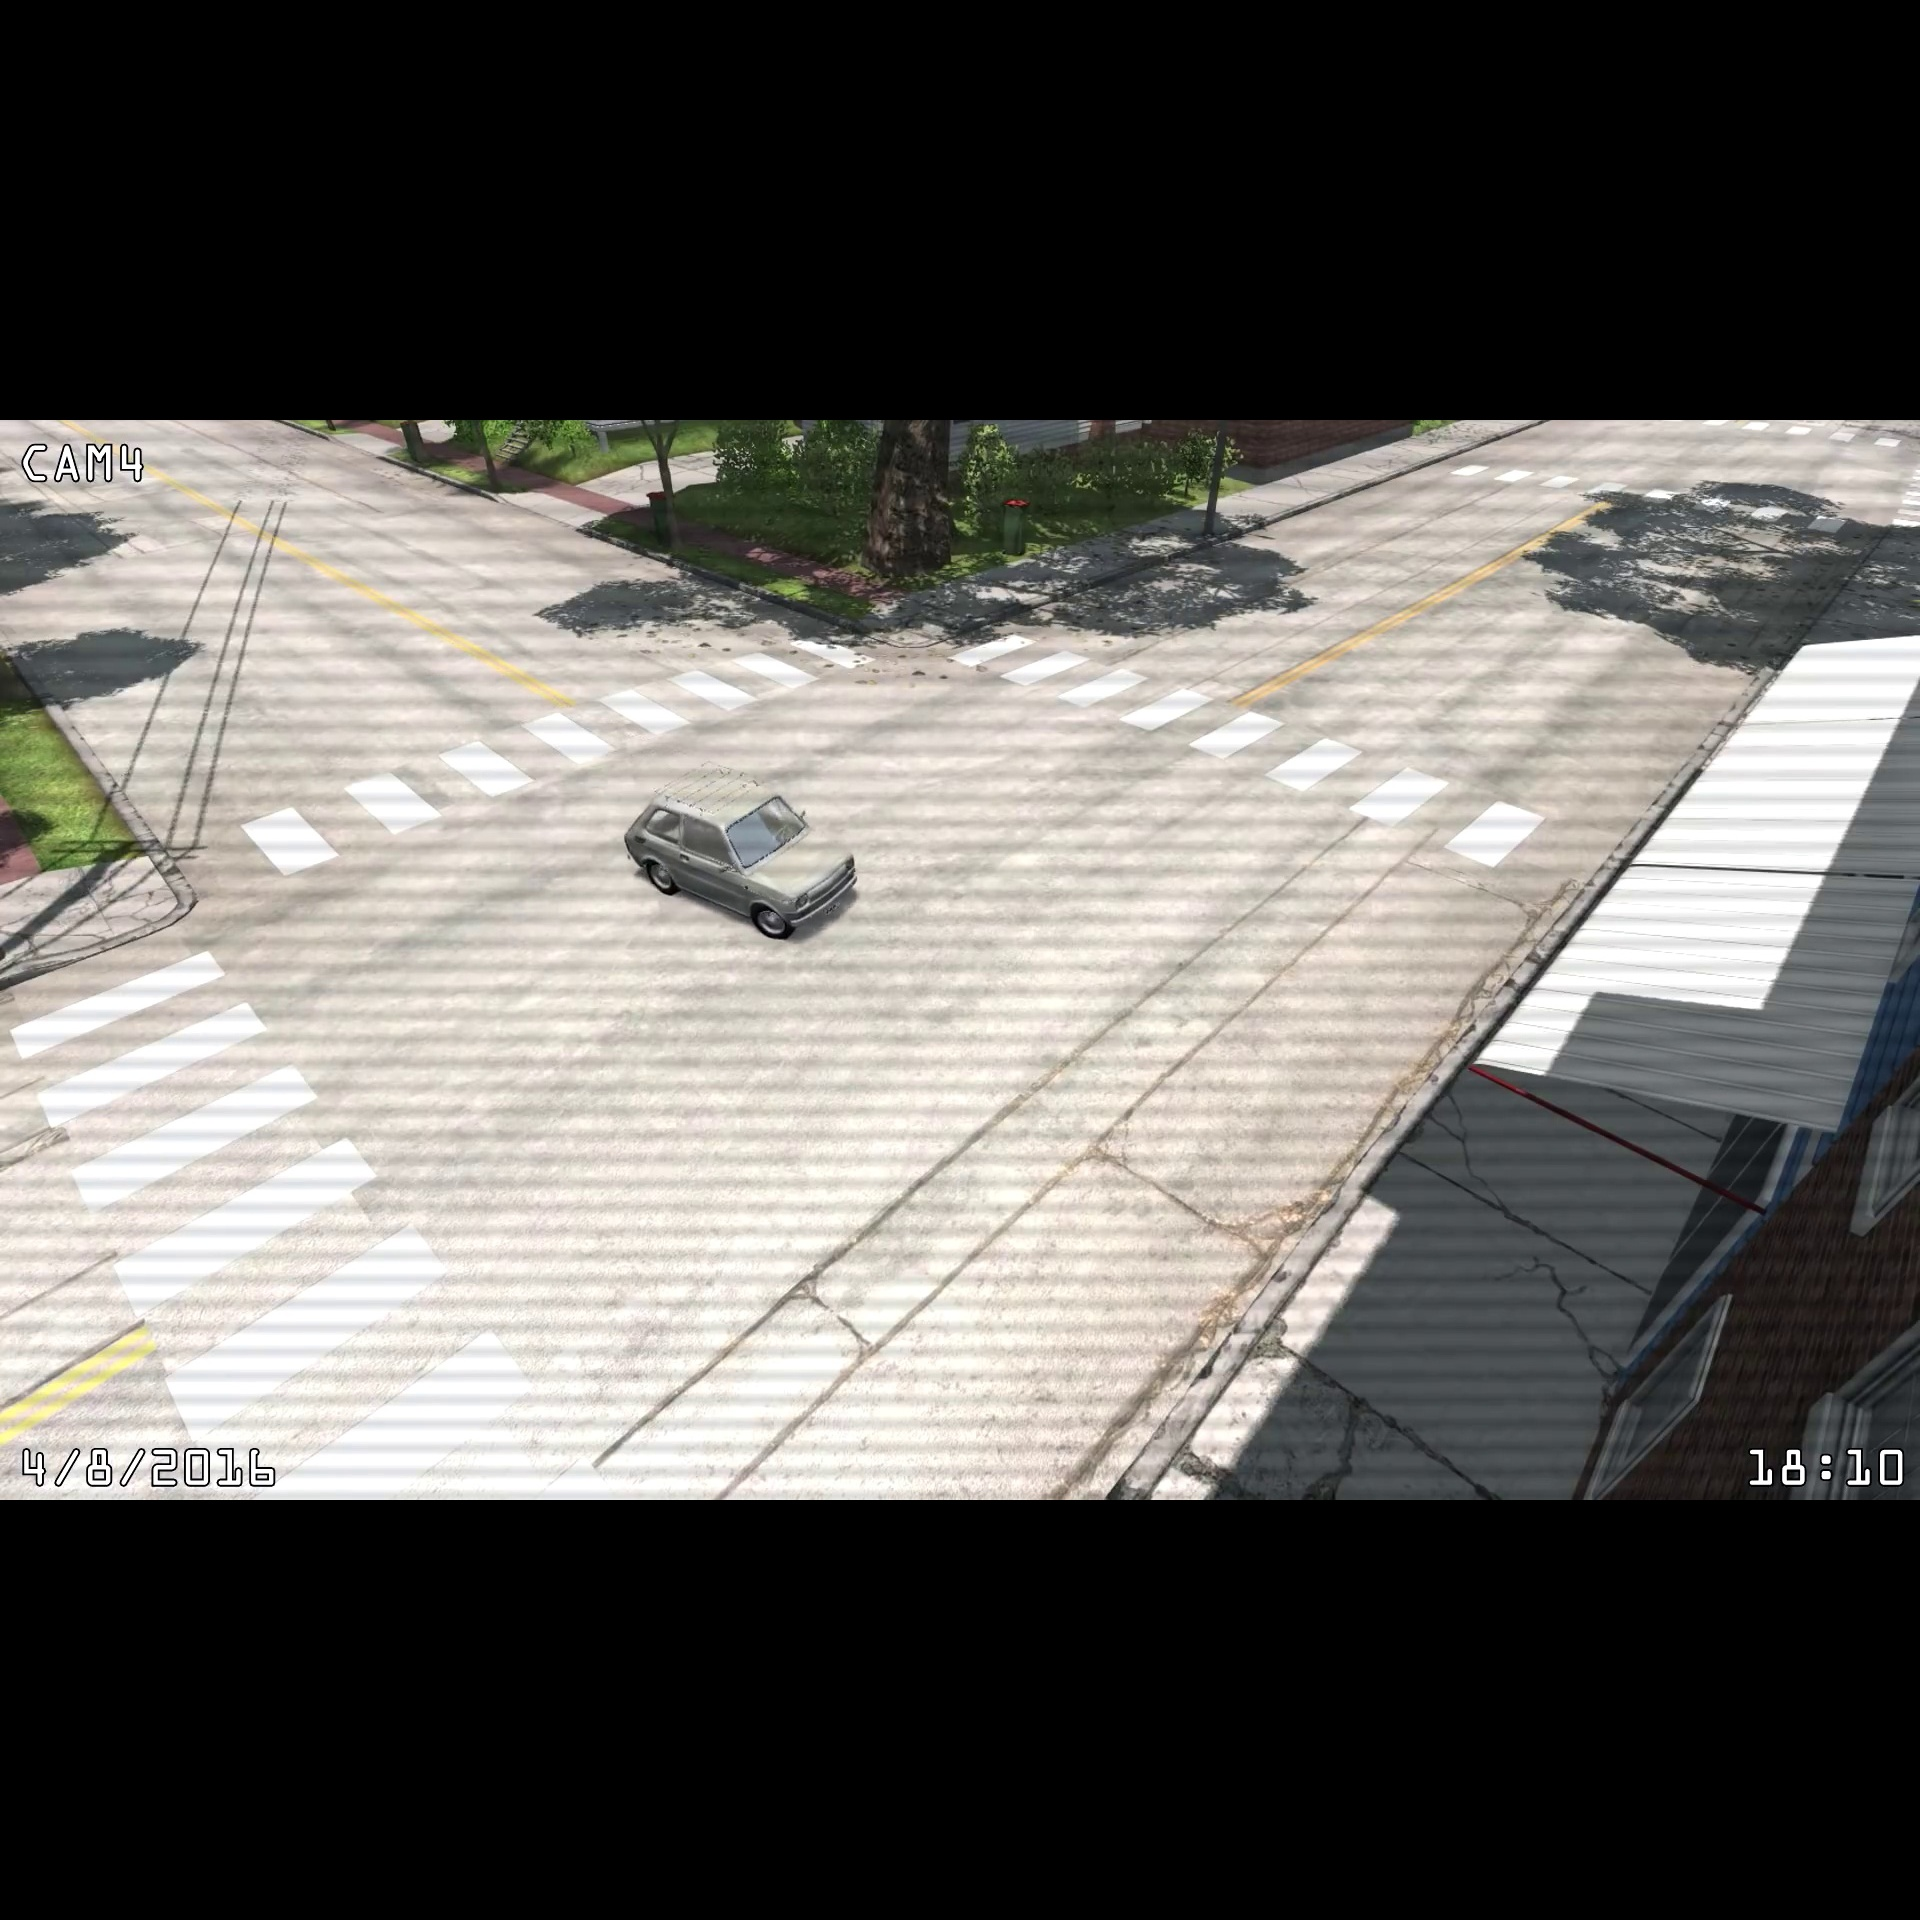vehicle: (614, 767, 870, 948)
